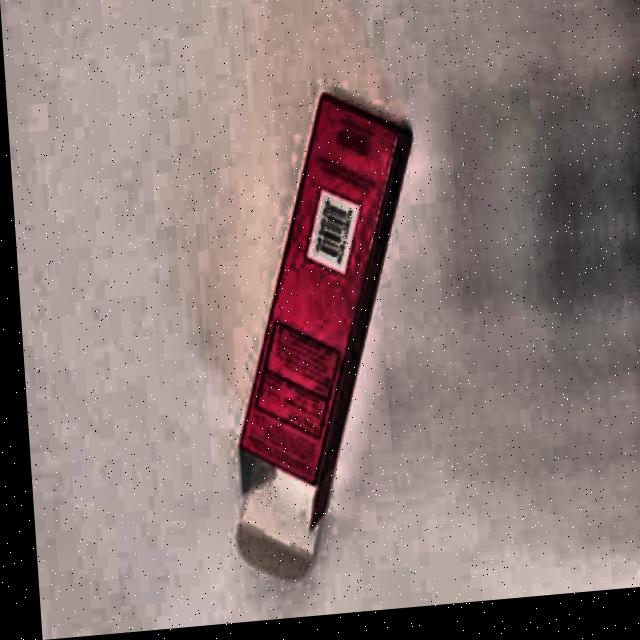paper: (205, 81, 443, 589)
